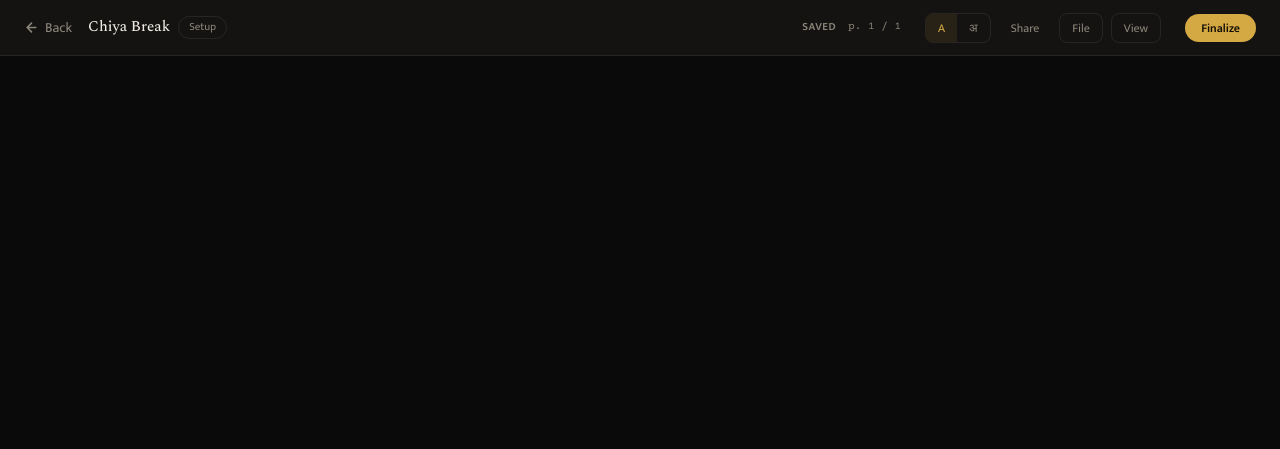
it: switches the interface language from inside the editor
Expected: the button "Share" is shown, [999,14,1051,42]
Click the button "View": (1136, 28) [1111,12,1161,42]
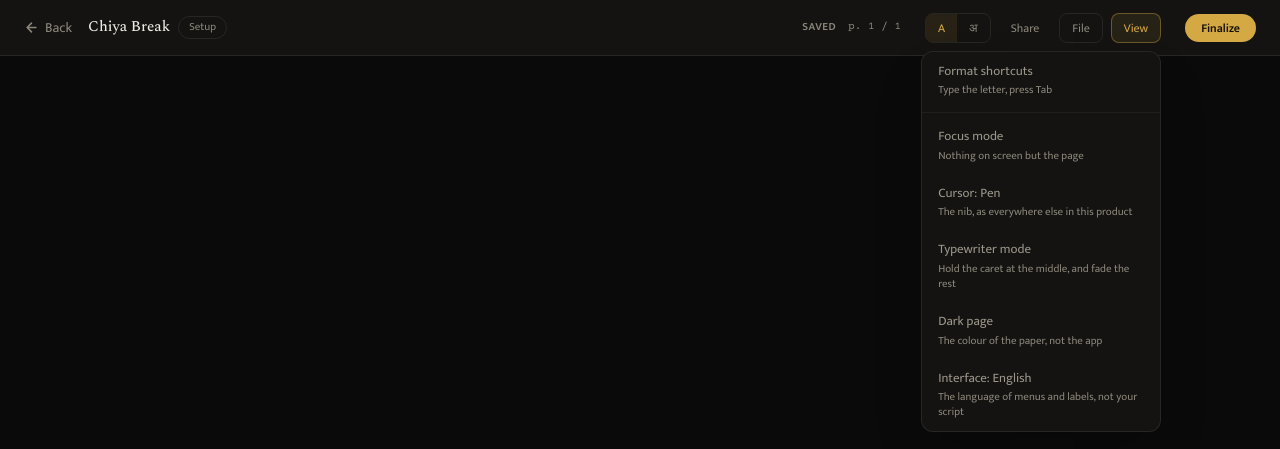
Click the text "Interface: English": (985, 378) [938,367,1031,389]
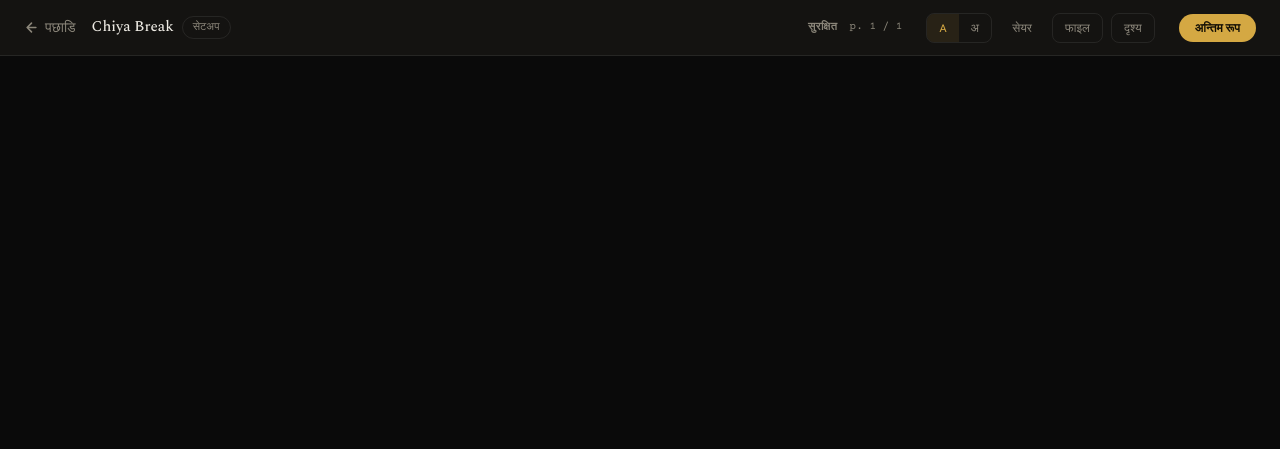
Expected: the button "सेयर" is shown, [1000,14,1044,42]
